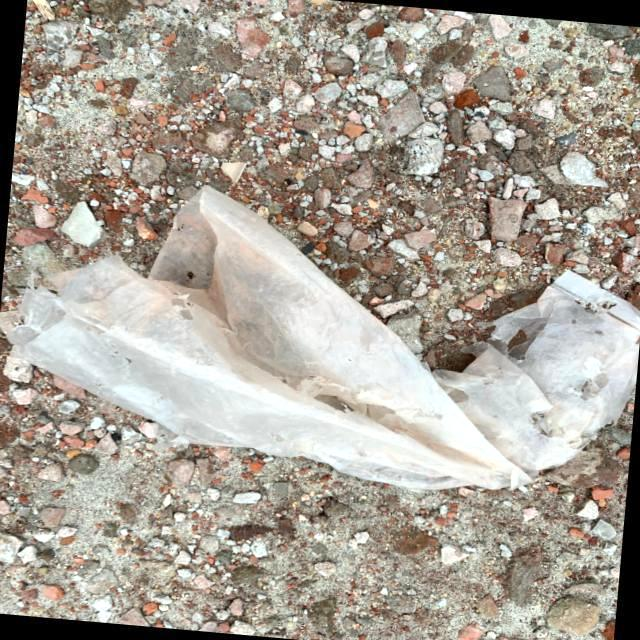polythene: (123, 254, 609, 485)
